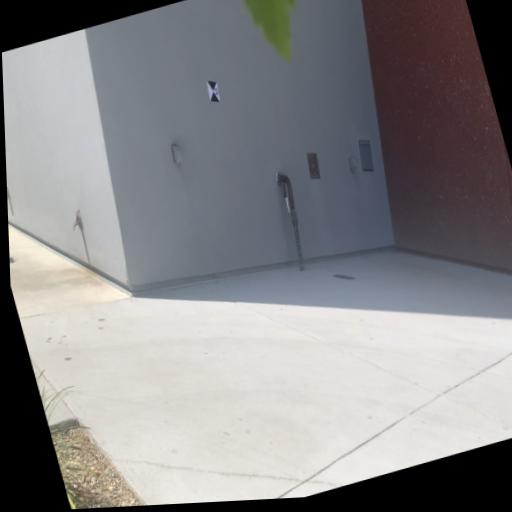target5: (207, 80, 221, 103)
